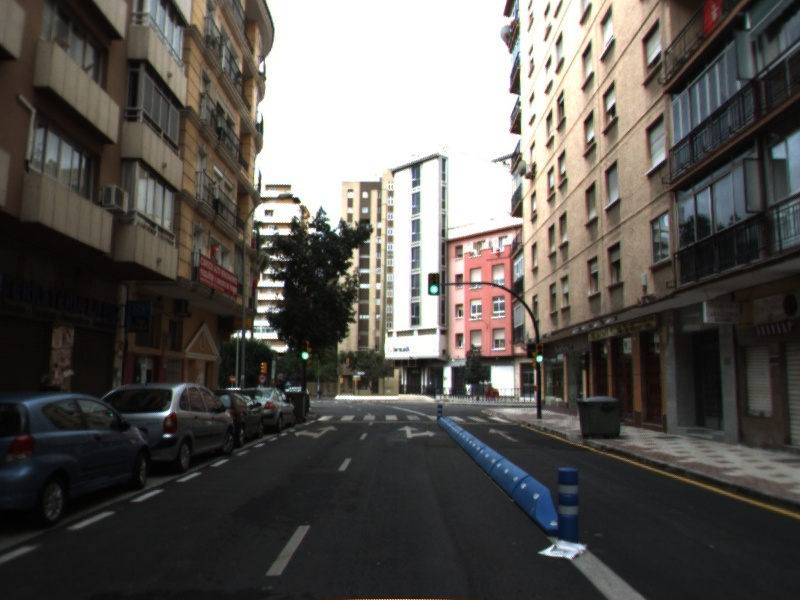STRAIGHT: (487, 426, 521, 443)
STRAIGHT_LEFT: (293, 424, 339, 440)
STRAIGHT_RIGHT: (395, 424, 438, 440)
